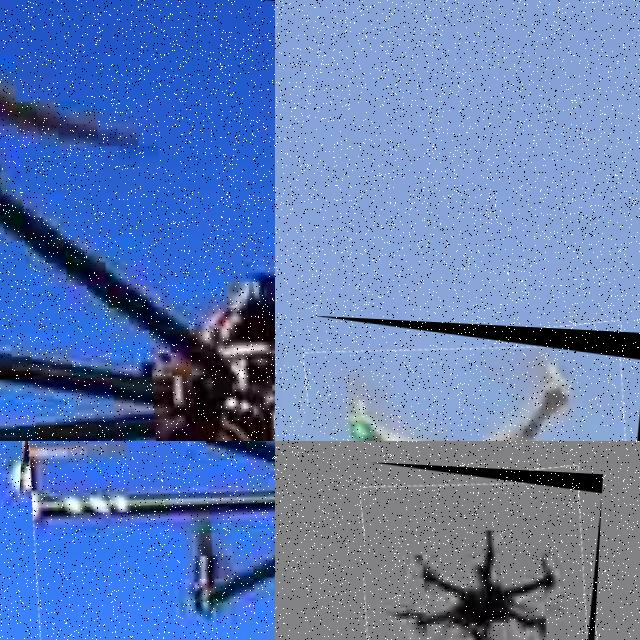drone: (0, 0, 275, 441), (5, 441, 275, 640), (357, 462, 603, 640), (300, 316, 640, 441)
